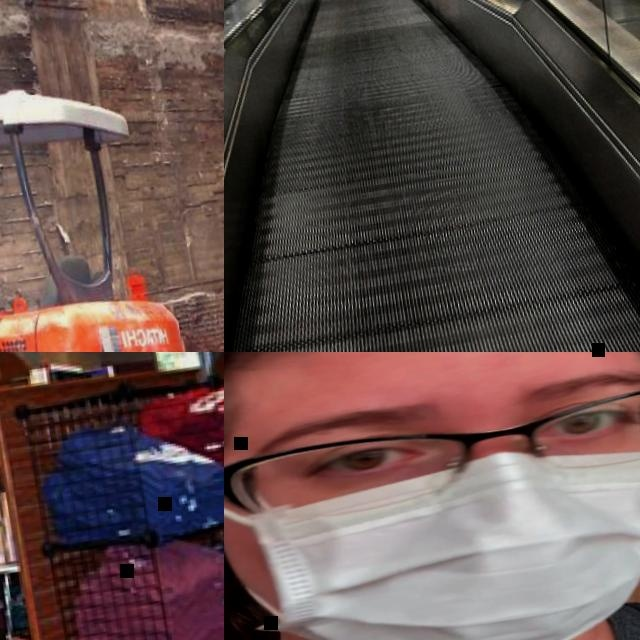Mask: (224, 436, 640, 640)
NO-Hardhat: (224, 352, 640, 424)
Person: (224, 352, 640, 640)
machinery: (0, 70, 220, 352)
